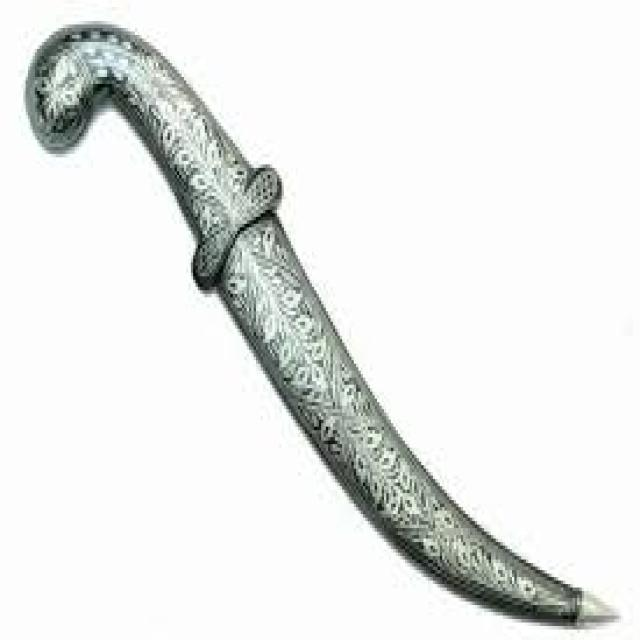Gun: (12, 21, 637, 640)
